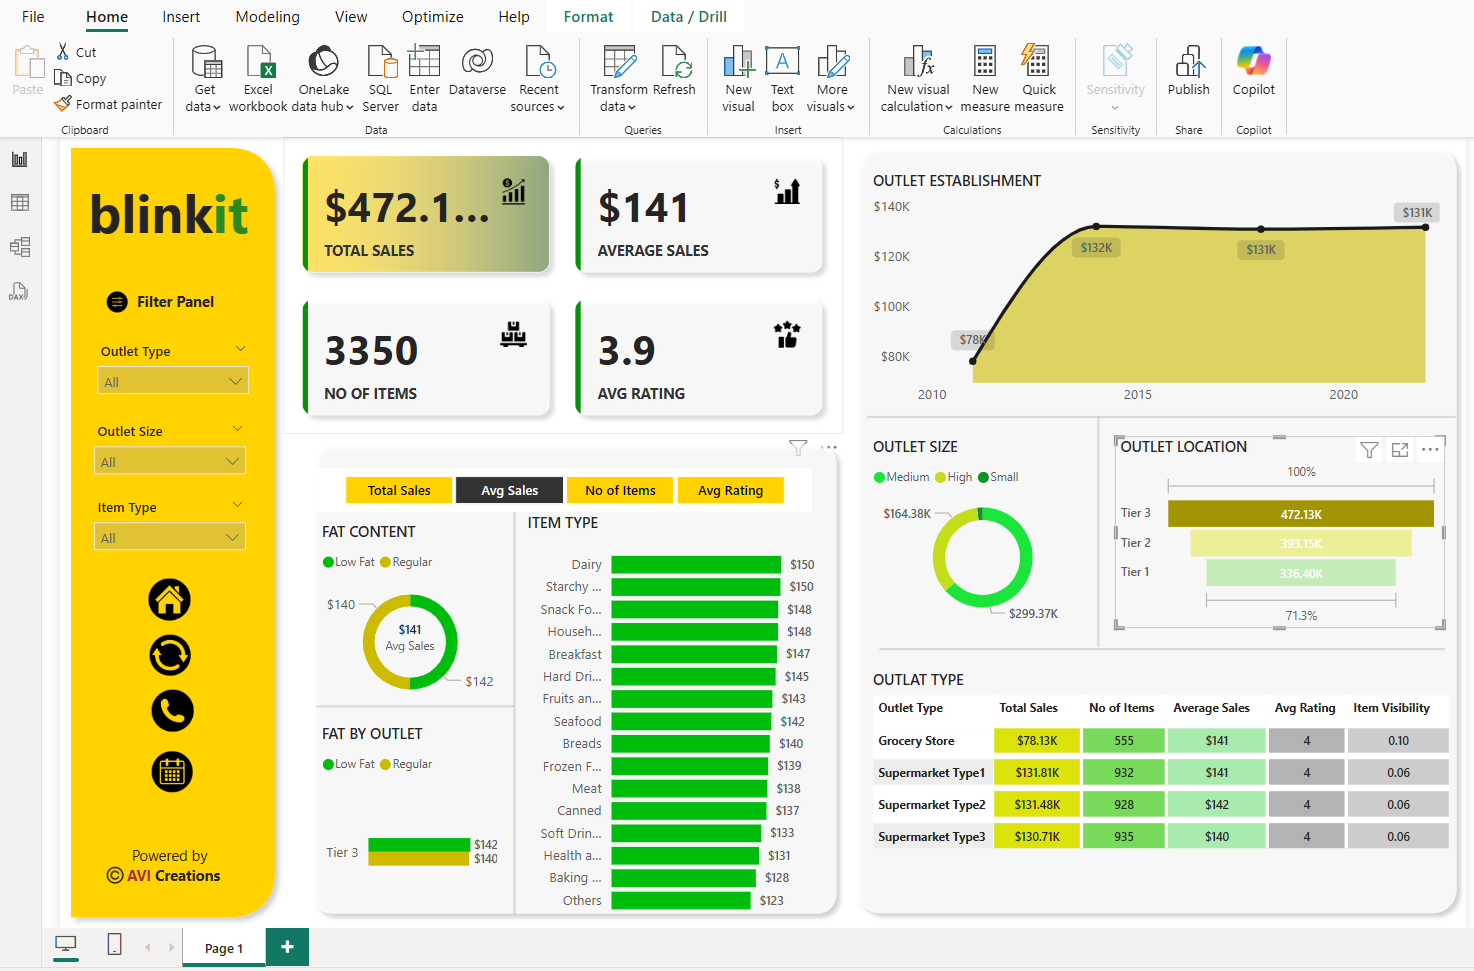

What the dashboard file says about the page in this screenshot:
{"tool":"powerbi","page":{"name":"Page 1","canvas":[1280,720],"ordinal":0},"visuals":[{"type":"shape","box":[0,0,205.6,720],"z":0},{"type":"textbox","box":[21,30,165.2,75.1],"z":1000},{"type":"cardVisual","fields":{"Data":["BlinkIT Grocery Data.Total Sales","BlinkIT Grocery Data.Average Sales","BlinkIT Grocery Data.No of Items","BlinkIT Grocery Data.Avg Rating"]},"box":[205.2,0,509.6,270.3],"z":2000},{"type":"shape","box":[221.1,270,494.4,445.6],"z":3000},{"type":"donutChart","title":"FAT CONTENT","fields":{"Y":["BlinkIT Grocery Data.Total Sales"],"Category":["BlinkIT Grocery Data.Item Fat Content"]},"box":[233.3,349.4,170.2,175.2],"z":4000},{"type":"slicer","fields":{"Values":["Matrix.Matrix"]},"box":[233.3,301.3,450.5,40],"z":5000},{"type":"cardVisual","fields":{"Data":["BlinkIT Grocery Data.Total Sales"]},"box":[264.4,416.7,108.9,76.7],"z":6000},{"type":"clusteredBarChart","title":"FAT BY OUTLET","fields":{"Y":["BlinkIT Grocery Data.Total Sales"],"Category":["BlinkIT Grocery Data.Outlet Location Type"],"Series":["BlinkIT Grocery Data.Item Fat Content"]},"box":[233.3,533.3,170,182.2],"z":7000},{"type":"shape","box":[233.3,502.2,180,31.1],"z":8000},{"type":"shape","box":[407.8,341.1,12.2,366.7],"z":9000},{"type":"clusteredBarChart","title":"ITEM TYPE","fields":{"Y":["BlinkIT Grocery Data.Total Sales"],"Category":["BlinkIT Grocery Data.Item Type"]},"box":[420,341.1,273.3,374.4],"z":10000},{"type":"shape","box":[715.6,0,564.4,715.6],"z":11000},{"type":"lineChart","title":"OUTLET ESTABLISHMENT","fields":{"Category":["BlinkIT Grocery Data.Outlet Establishment Year"],"Y":["BlinkIT Grocery Data.Total Sales"]},"box":[734.4,30,525.6,222.2],"z":12000},{"type":"shape","box":[734.4,238.9,535.6,31.1],"z":13000},{"type":"donutChart","title":"OUTLET SIZE","fields":{"Y":["BlinkIT Grocery Data.Total Sales"],"Category":["BlinkIT Grocery Data.Outlet Size"]},"box":[734.4,272.3,208.9,175.6],"z":14000},{"type":"shape","box":[930,254.4,30,210],"z":15000},{"type":"funnel","title":"OUTLET LOCATION","fields":{"Y":["Sum(BlinkIT Grocery Data.Sales)"],"Category":["BlinkIT Grocery Data.Outlet Location Type"]},"box":[960,272.3,300,175.6],"z":16000},{"type":"pivotTable","title":"OUTLAT TYPE","fields":{"Rows":["BlinkIT Grocery Data.Outlet Type"],"Values":["BlinkIT Grocery Data.Total Sales","BlinkIT Grocery Data.No of Items","BlinkIT Grocery Data.Average Sales","BlinkIT Grocery Data.Avg Rating","Avg(BlinkIT Grocery Data.Item Visibility)"]},"box":[734.4,484.4,535.5,190],"z":17000},{"type":"shape","box":[745.6,450,514.4,31.1],"z":18000},{"type":"slicer","fields":{"Values":["BlinkIT Grocery Data.Outlet Size"]},"box":[21.1,254.4,157.8,73.3],"z":19000},{"type":"slicer","fields":{"Values":["BlinkIT Grocery Data.Item Type"]},"box":[21.1,323.3,157.8,73.3],"z":20000},{"type":"slicer","fields":{"Values":["BlinkIT Grocery Data.Outlet Type"]},"box":[24.4,181.1,157.8,73.3],"z":21000},{"type":"textbox","box":[65.6,135.6,101.1,37.8],"z":22000},{"type":"image","box":[36.7,135.6,30,30],"z":23000},{"type":"image","box":[75.6,396.7,48.9,48.9],"z":24000},{"type":"image","box":[66.7,447.8,66.7,47.8],"z":25000},{"type":"image","box":[76.7,497.8,50,48.9],"z":26000},{"type":"image","box":[76.7,553.3,50,47.8],"z":27000},{"type":"textbox","box":[44.4,638.9,111.1,50],"z":28000},{"type":"image","box":[36.7,658.9,25.6,25.6],"z":29000}]}

Visuals, with their boxes on the page's 1280x720 design canvas (x1, y1, x2, y2). These are canvas units, not pixel positions in the 1474x971 screenshot, which may show the page scaled, cropped or inside an application window:
shape: bbox(0, 0, 206, 720)
textbox: bbox(21, 30, 186, 105)
cardVisual - BlinkIT Grocery Data.Total Sales x BlinkIT Grocery Data.Average Sales: bbox(205, 0, 715, 270)
shape: bbox(221, 270, 716, 716)
"FAT CONTENT" donutChart: bbox(233, 349, 404, 525)
slicer - Matrix.Matrix: bbox(233, 301, 684, 341)
cardVisual - BlinkIT Grocery Data.Total Sales: bbox(264, 417, 373, 493)
"FAT BY OUTLET" clusteredBarChart: bbox(233, 533, 403, 716)
shape: bbox(233, 502, 413, 533)
shape: bbox(408, 341, 420, 708)
"ITEM TYPE" clusteredBarChart: bbox(420, 341, 693, 716)
shape: bbox(716, 0, 1280, 716)
"OUTLET ESTABLISHMENT" lineChart: bbox(734, 30, 1260, 252)
shape: bbox(734, 239, 1270, 270)
"OUTLET SIZE" donutChart: bbox(734, 272, 943, 448)
shape: bbox(930, 254, 960, 464)
"OUTLET LOCATION" funnel: bbox(960, 272, 1260, 448)
"OUTLAT TYPE" pivotTable: bbox(734, 484, 1270, 674)
shape: bbox(746, 450, 1260, 481)
slicer - BlinkIT Grocery Data.Outlet Size: bbox(21, 254, 179, 328)
slicer - BlinkIT Grocery Data.Item Type: bbox(21, 323, 179, 397)
slicer - BlinkIT Grocery Data.Outlet Type: bbox(24, 181, 182, 254)
textbox: bbox(66, 136, 167, 173)
image: bbox(37, 136, 67, 166)
image: bbox(76, 397, 124, 446)
image: bbox(67, 448, 133, 496)
image: bbox(77, 498, 127, 547)
image: bbox(77, 553, 127, 601)
textbox: bbox(44, 639, 156, 689)
image: bbox(37, 659, 62, 684)
